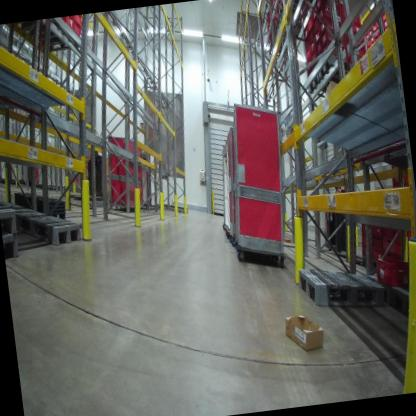pallet: (293, 253, 385, 315), (18, 191, 90, 262), (14, 180, 72, 230), (386, 284, 416, 319), (0, 201, 19, 236), (3, 231, 22, 261)
small_load_carrier: (364, 245, 407, 286), (320, 36, 348, 69), (317, 24, 345, 51), (315, 1, 343, 27), (342, 22, 366, 51), (381, 236, 407, 262), (356, 234, 384, 258), (356, 212, 386, 234), (340, 0, 361, 24), (318, 14, 343, 33), (345, 51, 367, 71), (344, 40, 365, 60), (343, 17, 364, 36), (315, 0, 340, 13), (313, 43, 326, 68), (73, 19, 85, 46), (311, 27, 323, 51), (62, 15, 77, 33), (310, 15, 322, 35), (301, 25, 310, 49), (309, 1, 320, 20), (370, 14, 380, 32), (308, 35, 316, 56), (304, 47, 312, 68), (307, 23, 314, 46), (309, 57, 318, 74), (302, 13, 312, 28)
